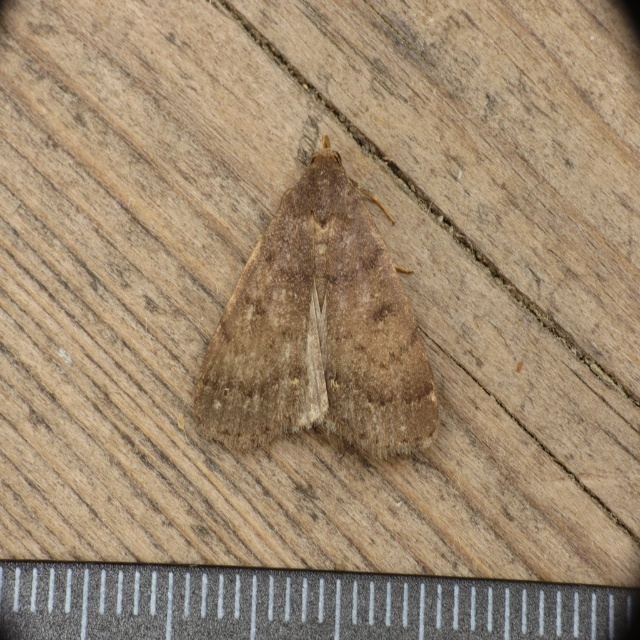Moths and butterflies: (189, 134, 442, 459)
